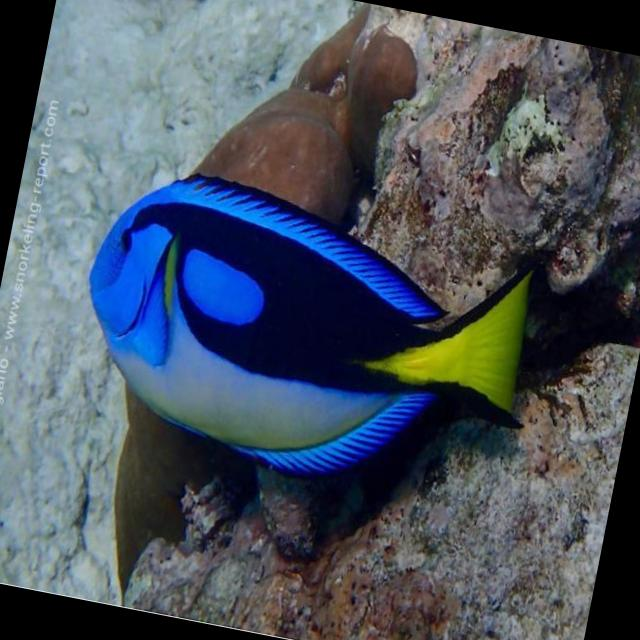TangFish: (62, 152, 553, 506)
